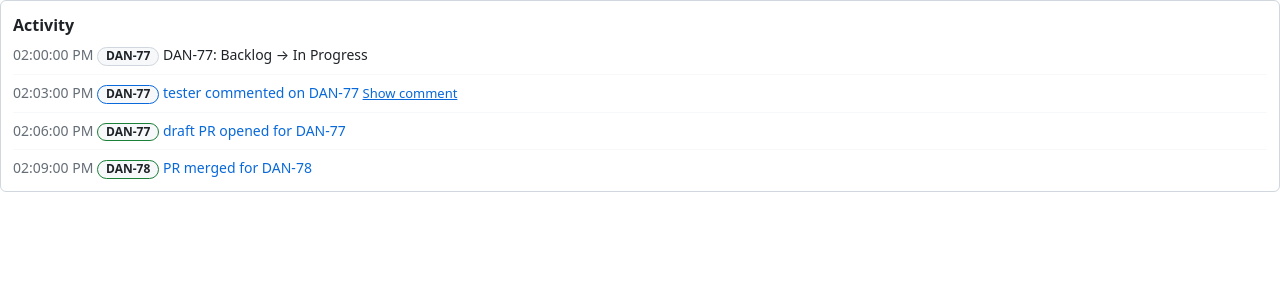
Scenario: DAN-84 tester · comment expand/collapse › hides the body initially behind a real button whose aria-expanded flips false→true, with the body as rendered markdown
The width and height of the screenshot is (1280, 302).
Expected: the text "end-to-end" is not shown
Step 1. Click the button → (410, 93), box [362,84,457,102]
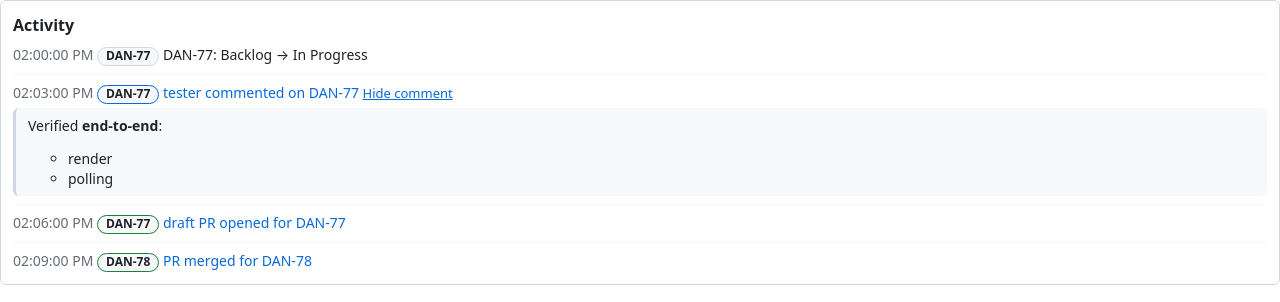
Expected: the button is expanded
Expected: the list item "render" is shown, [68,149,112,168]
Expected: the list item "polling" is shown, [68,169,113,188]
Note: Collapse hides it again and the button reports collapsed.
Step 2. Click the button → (408, 93), box [362,84,453,102]
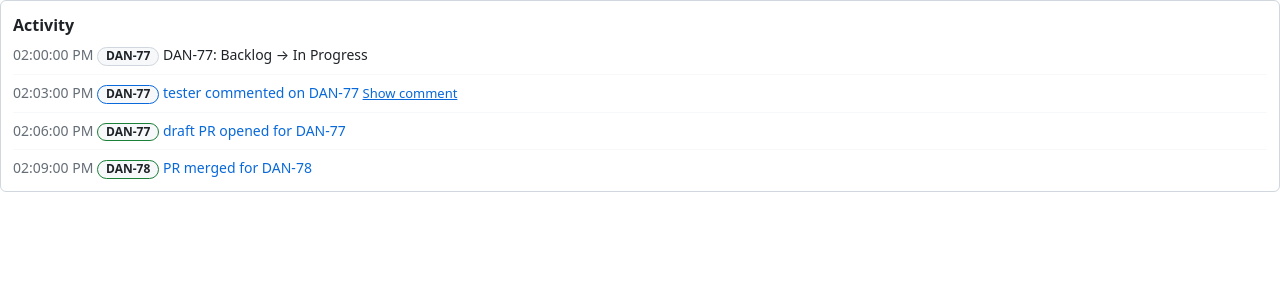
Expected: the button is collapsed, [362,84,457,102]
Expected: the text "end-to-end" is gone
